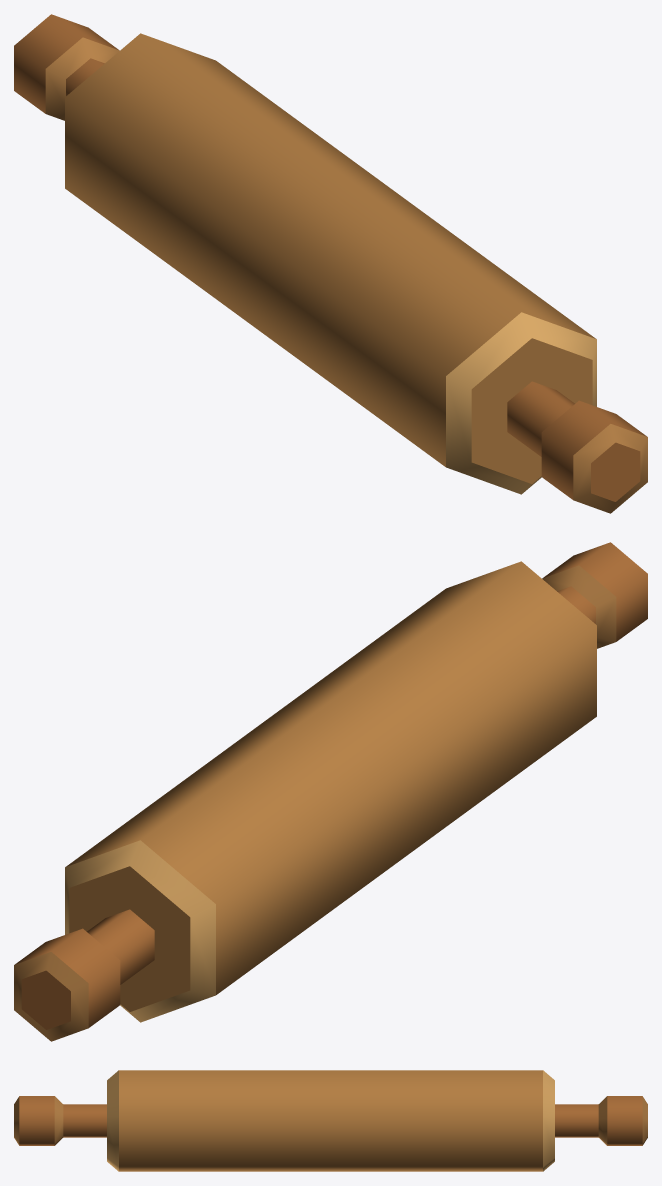
File: FoodProp_2_B.fbx
3 views of the same model, one above another, from view 1: azimuth 30°, elevation 25°; view 2: azimuth 150°, elevation 25°; view 3: azimuth 270°, elevation 25° (orthographic). The views are drawn at different scales.
Parts seen in each view (by area): view 1: FoodProp_2_B; view 2: FoodProp_2_B; view 3: FoodProp_2_B.
Boxes of the visible parts, x1=… form: FoodProp_2_B: x1=14, y1=14, x2=647, y2=513; FoodProp_2_B: x1=14, y1=542, x2=647, y2=1041; FoodProp_2_B: x1=14, y1=1070, x2=647, y2=1171.
Size of the model in its own units: 8.71 by 10.05 by 56.86.
